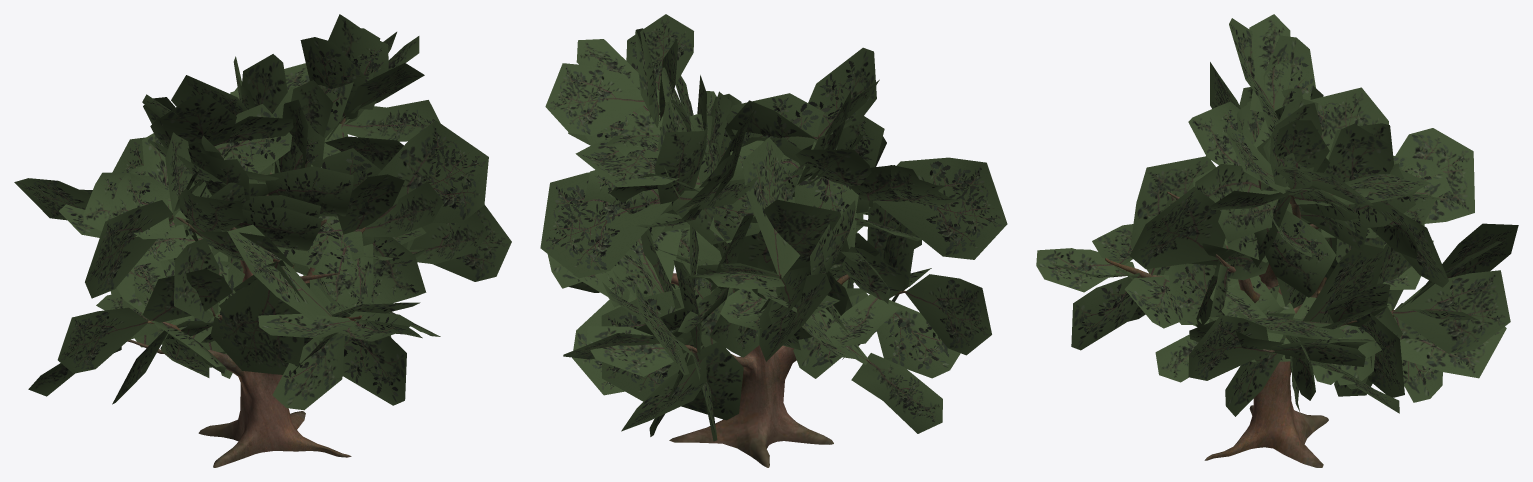
3 views of the same model, side by side, from view 1: azimuth 30°, elevation 25°; view 2: azimuth 150°, elevation 25°; view 3: azimuth 270°, elevation 25° (orthographic). The views are drawn at different scales.
Visible parts, largest first — view 1: node_55a054a1_5e7f_4b23_baff_86981da9a69d_mesh0, node_3c223c36_43ff_474e_8843_1b3dea3edf67_mesh0, node_61af3d90_8fd3_416a_8c8e_b60feb5468b2_mesh0, node_244eca2e_2cec_4f39_b684_a676abd0d20b_mesh0, node_86e1c4db_ae72_4800_8859_3f21d24f2de2_mesh0, node_ebc10e83_a303_47db_8f0d_a5dc4a64cd27_mesh0, node_3cb0480b_af5f_4f0f_86a8_29c0ace2acd7_mesh0, node_7091965f_dcb5_406d_833d_706029a20f24_mesh0, node_301d49fa_cb57_450d_9c12_6fd22e50bfbe_mesh0, node_08e51ac2_0f98_4269_bd6b_99c968f31c1d_mesh0, node_7c26bf3a_c2e6_4603_9a7e_474bd0072efc_mesh0, node_d8c4f4ff_22e8_4711_8a80_36e7009bc34f_mesh0 (+48 smaller); view 2: node_244eca2e_2cec_4f39_b684_a676abd0d20b_mesh0, node_34252084_0264_443b_96e2_6540313790bc_mesh0, node_55a054a1_5e7f_4b23_baff_86981da9a69d_mesh0, node_9ed1ebb0_b018_4743_8bc6_afa1d83b941f_mesh0, node_86e1c4db_ae72_4800_8859_3f21d24f2de2_mesh0, node_b4f12349_5adb_447b_aa64_6aac02039fe3_mesh0, node_b0c30d0d_d5f8_48d0_ad6f_5584b9d838d9_mesh0, node_e1de2f6d_dd52_49e2_ad41_95d0ceabcbd5_mesh0, node_7e353489_a5d5_4b7d_9b23_60014768eca3_mesh0, node_059a0bcb_f423_4bb6_90d4_5801cc72ea4a_mesh0, node_3fe9031e_000f_441f_82aa_21c55d4ecf97_mesh0, node_6135bff5_213f_4e00_8af8_ad22312f81c5_mesh0 (+62 smaller); view 3: node_55a054a1_5e7f_4b23_baff_86981da9a69d_mesh0, node_c86987e7_f9c2_4137_ab45_7ac50e1534f1_mesh0, node_3c223c36_43ff_474e_8843_1b3dea3edf67_mesh0, node_11897d95_20e5_4ec3_bfa0_f79bdac30c0d_mesh0, node_c658ff48_8dca_4eb3_af9b_6e4d54785efd_mesh0, node_301d49fa_cb57_450d_9c12_6fd22e50bfbe_mesh0, node_ebc10e83_a303_47db_8f0d_a5dc4a64cd27_mesh0, node_08e51ac2_0f98_4269_bd6b_99c968f31c1d_mesh0, node_cf796d34_4a88_46cd_b75b_6f7576ffcf8a_mesh0, node_b954d18f_d947_4d2e_8c56_7a139599a347_mesh0, node_0b207dbc_abc2_4390_be23_4c27e1b1baf9_mesh0, node_832a500e_1e1c_44e6_ba7e_bc6f5fdec364_mesh0 (+48 smaller).
Part boxes in pixels (bbox=[...]): node_55a054a1_5e7f_4b23_baff_86981da9a69d_mesh0: bbox=[127, 118, 365, 467]; node_3c223c36_43ff_474e_8843_1b3dea3edf67_mesh0: bbox=[378, 120, 488, 222]; node_61af3d90_8fd3_416a_8c8e_b60feb5468b2_mesh0: bbox=[210, 261, 304, 374]; node_244eca2e_2cec_4f39_b684_a676abd0d20b_mesh0: bbox=[85, 200, 173, 298]; node_86e1c4db_ae72_4800_8859_3f21d24f2de2_mesh0: bbox=[57, 307, 147, 373]; node_ebc10e83_a303_47db_8f0d_a5dc4a64cd27_mesh0: bbox=[322, 333, 406, 405]; node_3cb0480b_af5f_4f0f_86a8_29c0ace2acd7_mesh0: bbox=[272, 333, 344, 410]; node_7091965f_dcb5_406d_833d_706029a20f24_mesh0: bbox=[309, 240, 373, 313]; node_301d49fa_cb57_450d_9c12_6fd22e50bfbe_mesh0: bbox=[409, 204, 511, 281]; node_08e51ac2_0f98_4269_bd6b_99c968f31c1d_mesh0: bbox=[227, 224, 331, 320]; node_7c26bf3a_c2e6_4603_9a7e_474bd0072efc_mesh0: bbox=[265, 166, 353, 216]; node_d8c4f4ff_22e8_4711_8a80_36e7009bc34f_mesh0: bbox=[369, 237, 426, 304]; node_244eca2e_2cec_4f39_b684_a676abd0d20b_mesh0: bbox=[873, 157, 1007, 259]; node_34252084_0264_443b_96e2_6540313790bc_mesh0: bbox=[540, 172, 672, 278]; node_55a054a1_5e7f_4b23_baff_86981da9a69d_mesh0: bbox=[669, 134, 905, 467]; node_9ed1ebb0_b018_4743_8bc6_afa1d83b941f_mesh0: bbox=[545, 63, 645, 135]; node_86e1c4db_ae72_4800_8859_3f21d24f2de2_mesh0: bbox=[905, 274, 991, 355]; node_b4f12349_5adb_447b_aa64_6aac02039fe3_mesh0: bbox=[736, 199, 849, 277]; node_b0c30d0d_d5f8_48d0_ad6f_5584b9d838d9_mesh0: bbox=[851, 353, 942, 433]; node_e1de2f6d_dd52_49e2_ad41_95d0ceabcbd5_mesh0: bbox=[876, 300, 960, 378]; node_7e353489_a5d5_4b7d_9b23_60014768eca3_mesh0: bbox=[742, 137, 800, 277]; node_059a0bcb_f423_4bb6_90d4_5801cc72ea4a_mesh0: bbox=[808, 47, 876, 137]; node_3fe9031e_000f_441f_82aa_21c55d4ecf97_mesh0: bbox=[601, 289, 703, 401]; node_6135bff5_213f_4e00_8af8_ad22312f81c5_mesh0: bbox=[681, 341, 743, 420]; node_55a054a1_5e7f_4b23_baff_86981da9a69d_mesh0: bbox=[1105, 105, 1394, 467]; node_c86987e7_f9c2_4137_ab45_7ac50e1534f1_mesh0: bbox=[1392, 270, 1510, 353]; node_3c223c36_43ff_474e_8843_1b3dea3edf67_mesh0: bbox=[1130, 186, 1225, 269]; node_11897d95_20e5_4ec3_bfa0_f79bdac30c0d_mesh0: bbox=[1395, 128, 1474, 223]; node_c658ff48_8dca_4eb3_af9b_6e4d54785efd_mesh0: bbox=[1254, 210, 1336, 297]; node_301d49fa_cb57_450d_9c12_6fd22e50bfbe_mesh0: bbox=[1188, 315, 1269, 380]; node_ebc10e83_a303_47db_8f0d_a5dc4a64cd27_mesh0: bbox=[1071, 273, 1140, 350]; node_08e51ac2_0f98_4269_bd6b_99c968f31c1d_mesh0: bbox=[1130, 156, 1215, 275]; node_cf796d34_4a88_46cd_b75b_6f7576ffcf8a_mesh0: bbox=[1297, 244, 1386, 341]; node_b954d18f_d947_4d2e_8c56_7a139599a347_mesh0: bbox=[1324, 123, 1391, 206]; node_0b207dbc_abc2_4390_be23_4c27e1b1baf9_mesh0: bbox=[1249, 14, 1290, 112]; node_832a500e_1e1c_44e6_ba7e_bc6f5fdec364_mesh0: bbox=[1411, 223, 1518, 302].
Bounding box in the file's own units: 4326241 × 3843863 × 4407214.
2 materials, 2 textured.
